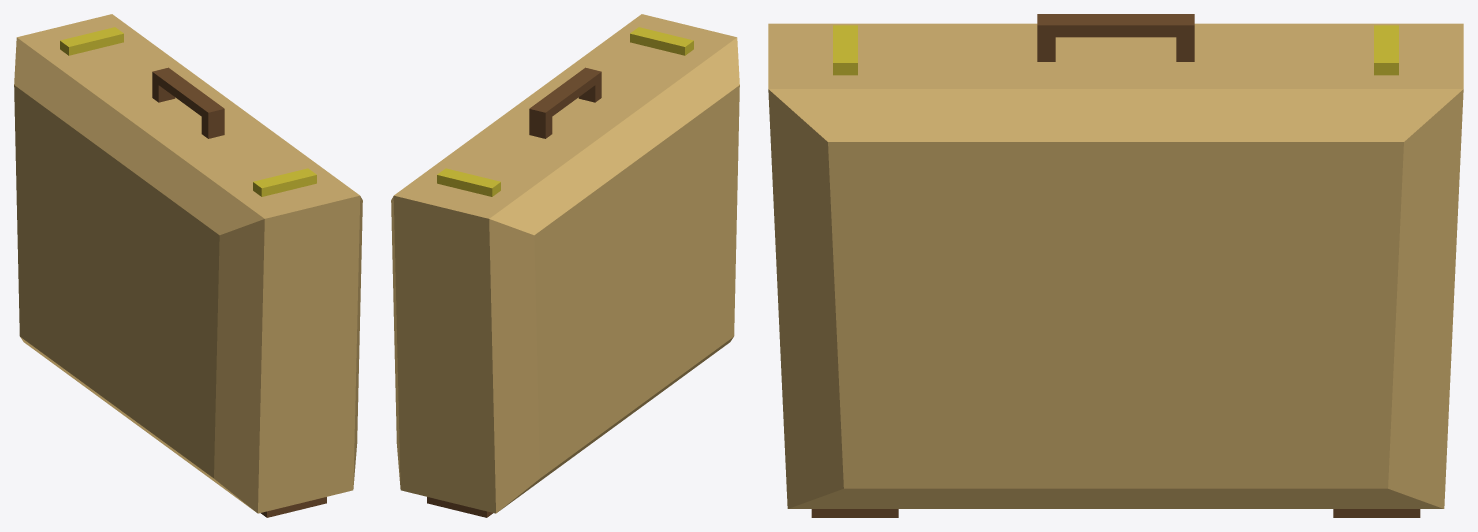
Rendered from Case.fbx.
3 renders of one model, left to right at view 1: azimuth 30°, elevation 25°; view 2: azimuth 150°, elevation 25°; view 3: azimuth 270°, elevation 25°, orthographic. The views are drawn at different scales.
Visible parts, largest first — view 1: Cube; view 2: Cube; view 3: Cube.
Boxes of the visible parts, x1,y1,x2,y2 form: Cube: (14, 14, 362, 517); Cube: (391, 14, 739, 517); Cube: (768, 14, 1463, 517).
Bounding box in the file's own units: 60 × 137 × 180.
